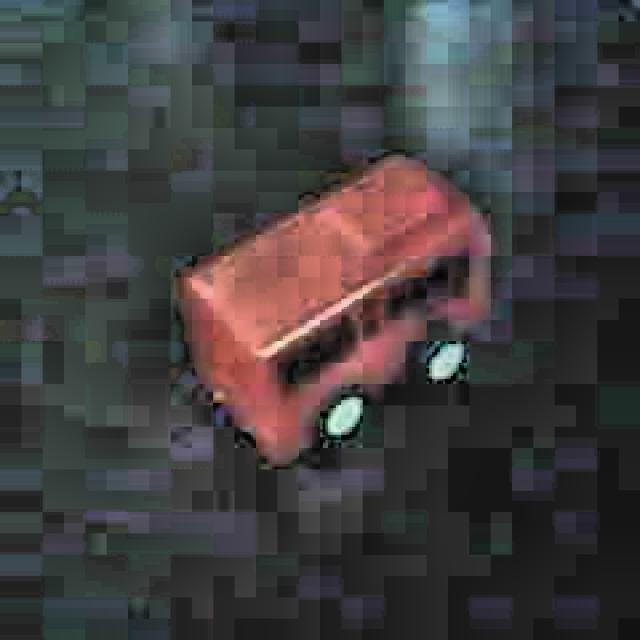bus: (173, 149, 497, 474)
